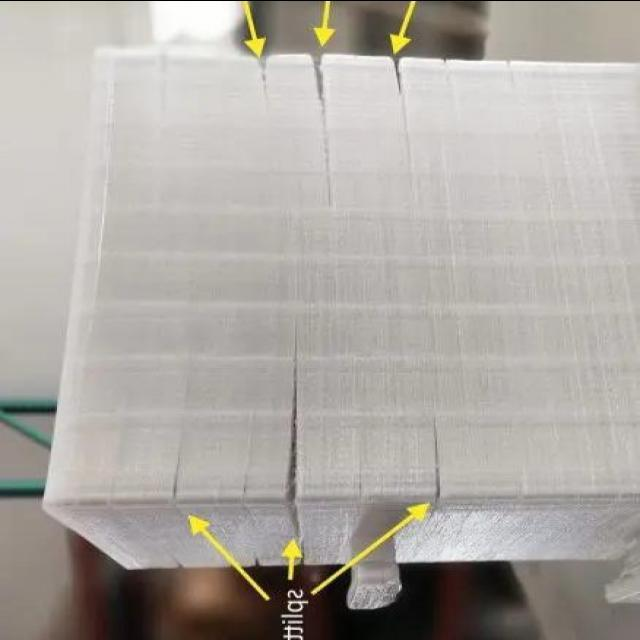cracks: (283, 324, 311, 538), (312, 50, 348, 212), (390, 56, 427, 201), (423, 412, 449, 512), (255, 49, 277, 111), (169, 455, 185, 499)
